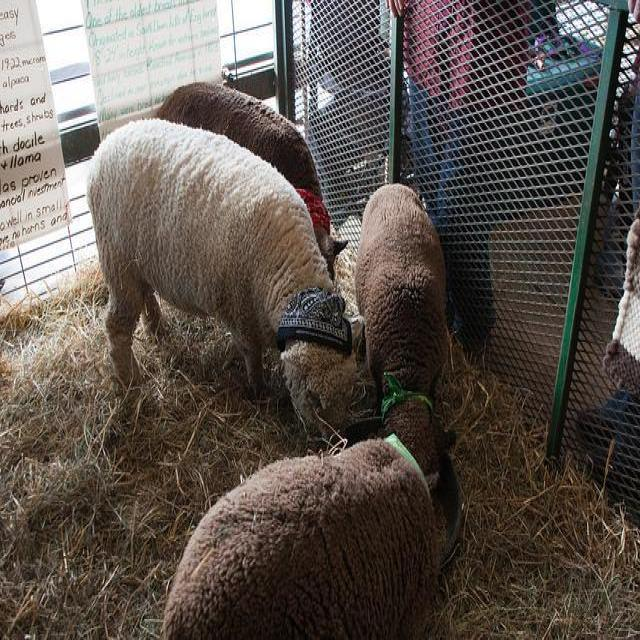Sheep: (89, 120, 365, 448), (158, 434, 441, 638), (151, 81, 351, 277), (355, 183, 462, 509)
